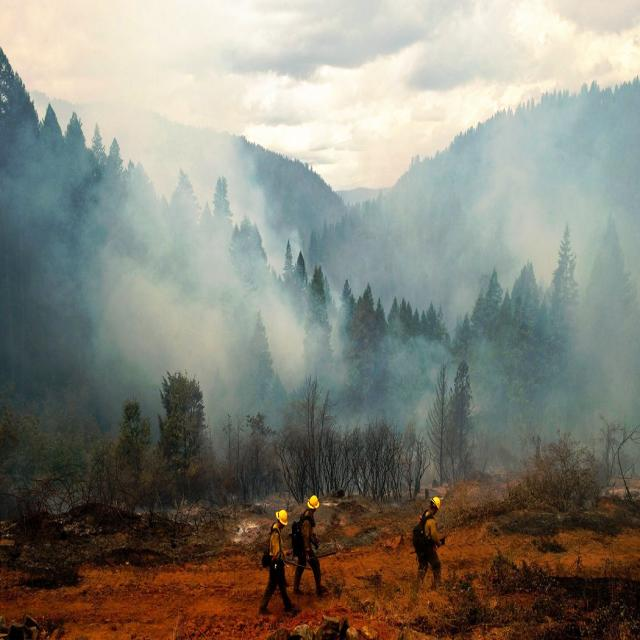asap: (1, 1, 640, 505)
